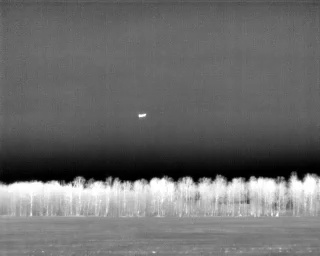DRONE: (135, 108, 150, 122)
